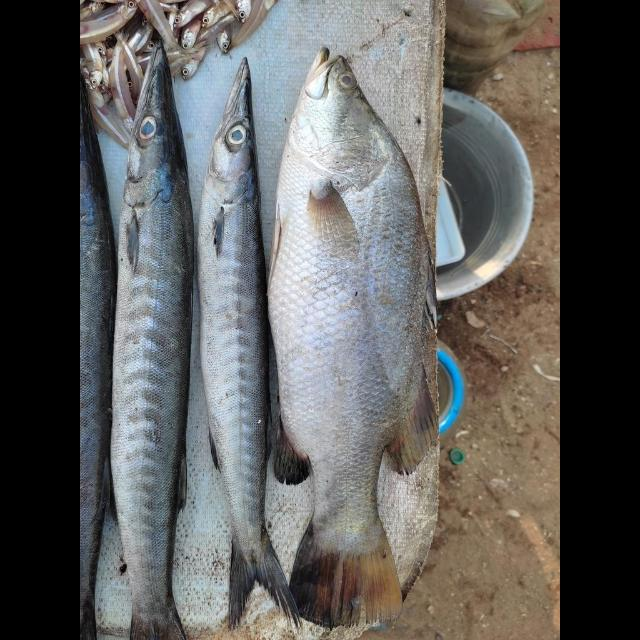Seabass: (268, 46, 440, 626)
